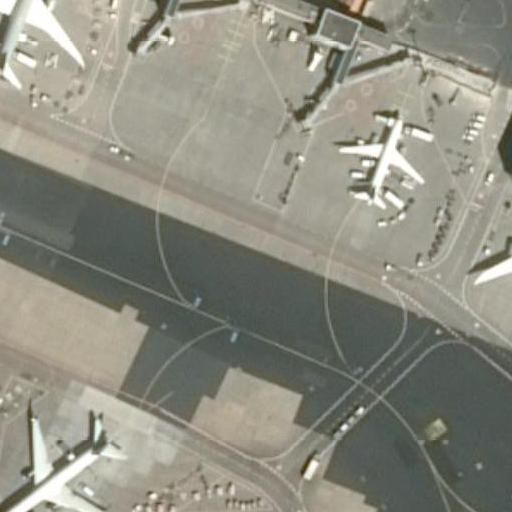Aircraft: (0, 402, 132, 512), (329, 99, 432, 220), (465, 150, 512, 367), (0, 0, 87, 93), (0, 295, 4, 481)
